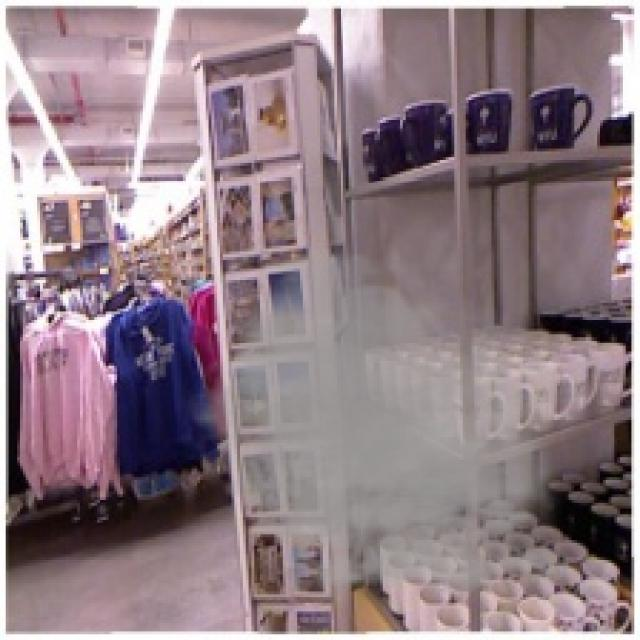smoke: (175, 237, 594, 614)
